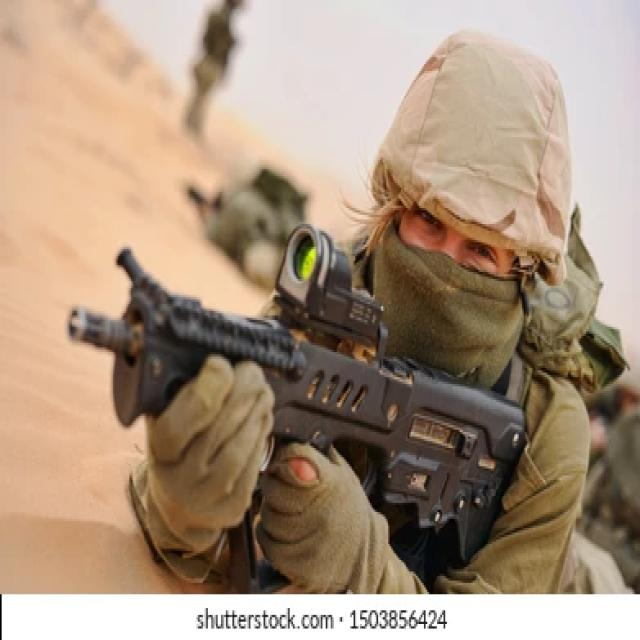soldier: (64, 36, 619, 590)
